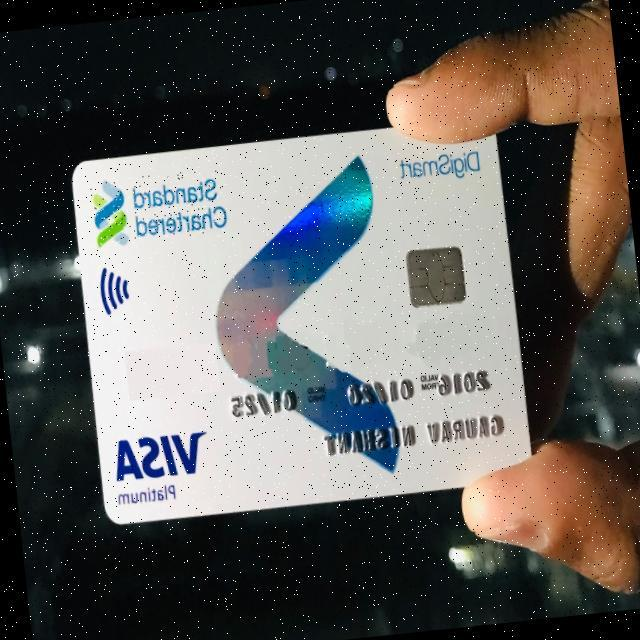Standard Chartered: (88, 168, 228, 246)
